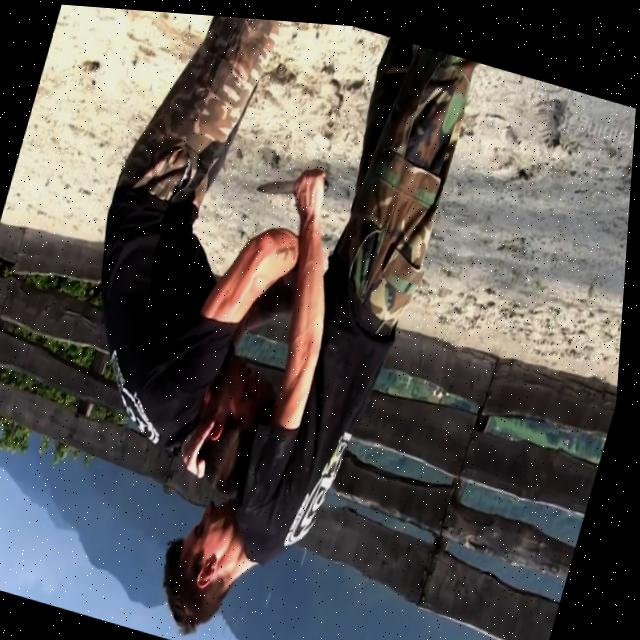knife: (257, 163, 302, 199)
